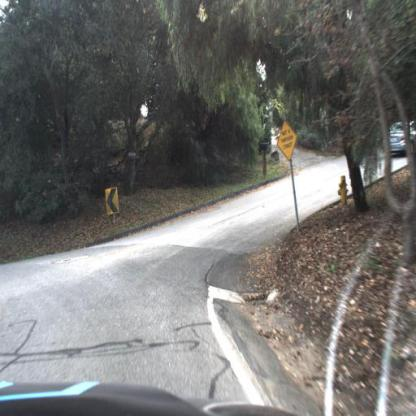car: (385, 122, 416, 162)
